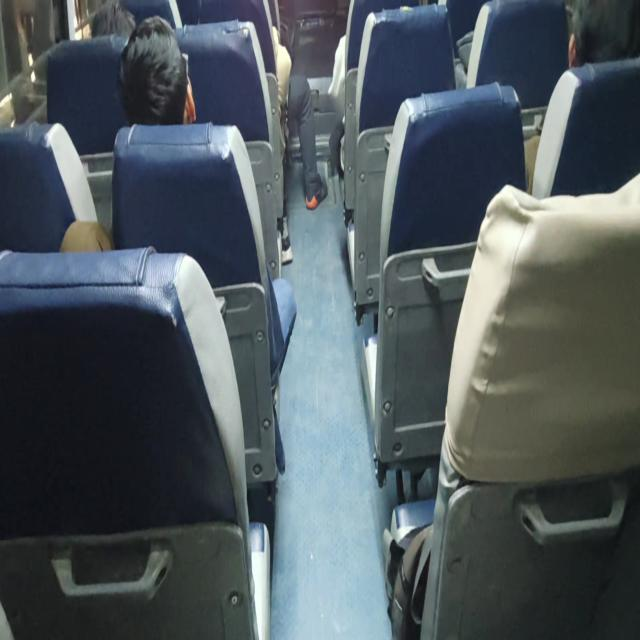person: (546, 0, 640, 90), (130, 30, 192, 130), (79, 1, 137, 56)
